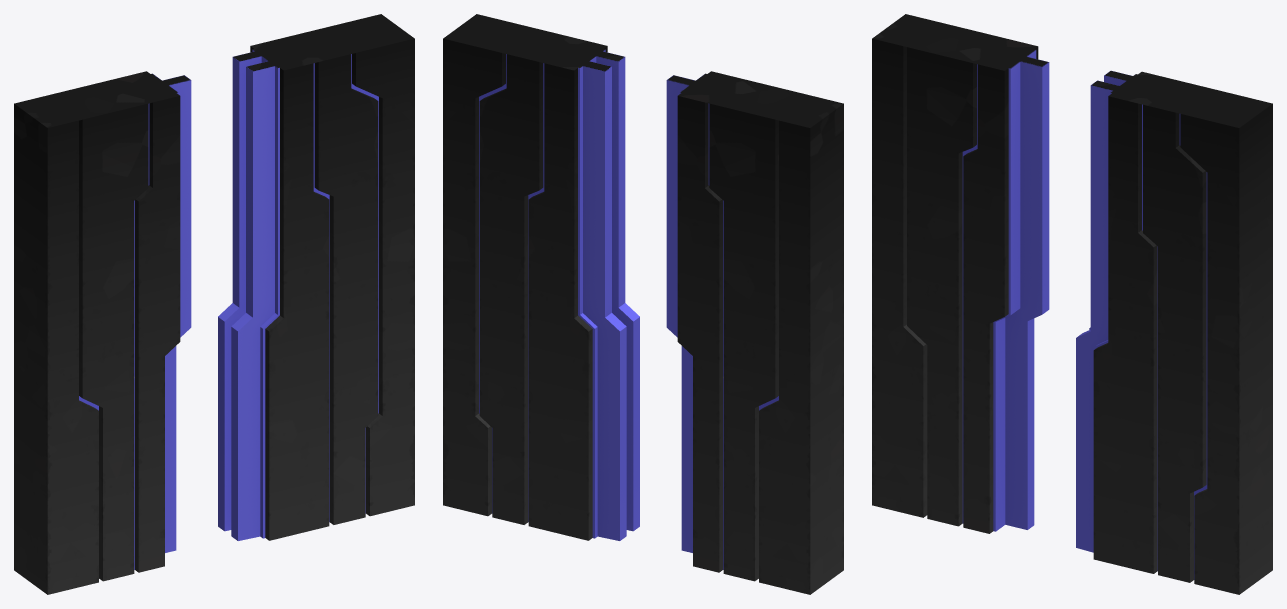
File: landmarkdoor.fbx
3 views of the same model, side by side, from view 1: azimuth 30°, elevation 25°; view 2: azimuth 150°, elevation 25°; view 3: azimuth 330°, elevation 25° (orthographic).
Visible parts, largest first — view 1: landmarkdoorleft, landmarkdoorright; view 2: landmarkdoorleft, landmarkdoorright; view 3: landmarkdoorleft, landmarkdoorright.
Boxes of the visible parts, x1,y1,x2,y2 form: landmarkdoorleft: (218,14,414,540); landmarkdoorright: (14,71,191,594); landmarkdoorleft: (443,14,639,540); landmarkdoorright: (666,71,843,594); landmarkdoorleft: (1076,70,1272,594); landmarkdoorright: (872,14,1049,533).
Bounding box in the file's own units: 648 × 787 × 103.
1 material, 1 textured.
